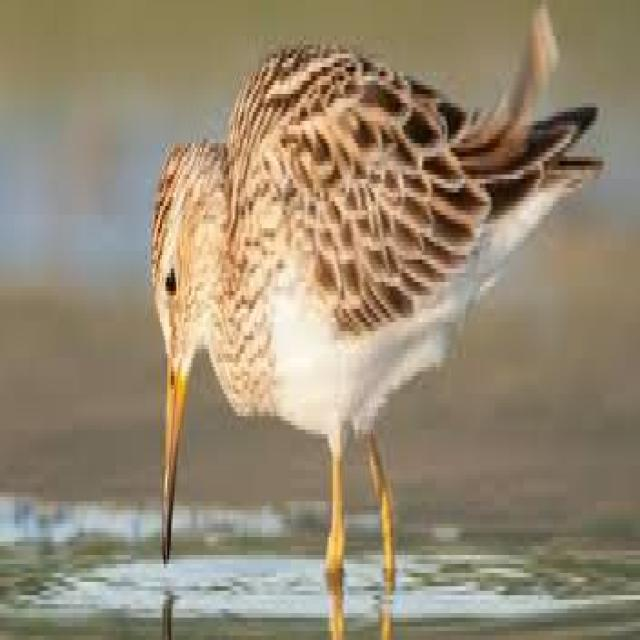Sandpiper: (156, 44, 585, 621)
